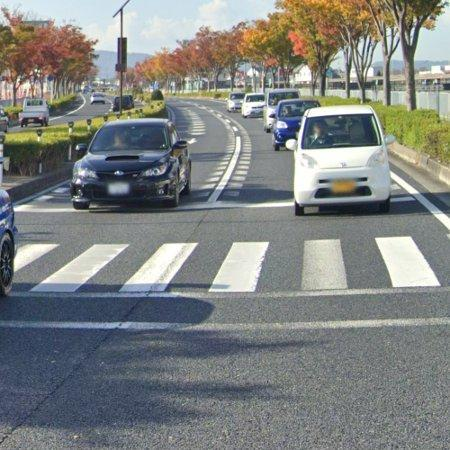crosswalk: (9, 235, 449, 297)
